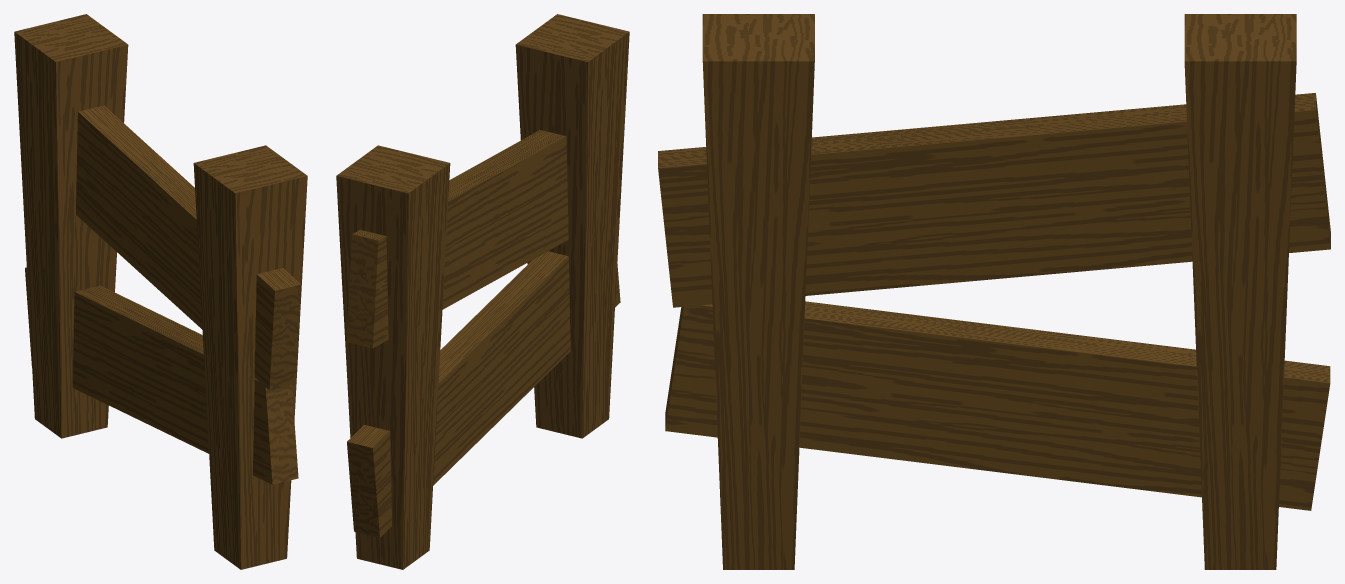
File: fence_2.fbx
3 renders of one model, left to right at view 1: azimuth 30°, elevation 25°; view 2: azimuth 150°, elevation 25°; view 3: azimuth 270°, elevation 25°, orthographic. The views are drawn at different scales.
Visible parts, largest first — view 1: fence_2; view 2: fence_2; view 3: fence_2.
Part boxes in pixels (box(x1,y1,x2,y2)): fence_2: box(14, 14, 307, 569); fence_2: box(336, 14, 629, 569); fence_2: box(658, 14, 1330, 569).
Size of the model in its own units: 39.29 by 200 by 236.
